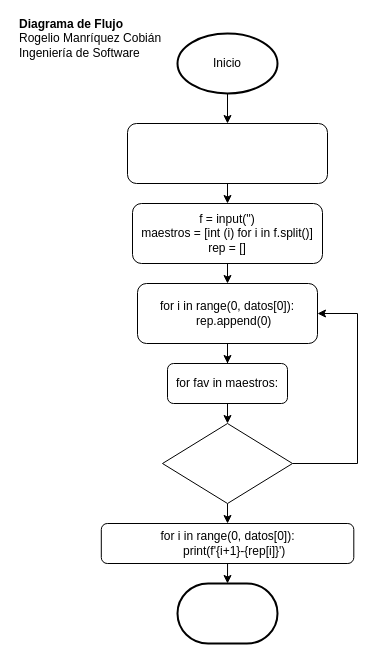
Image size: 383x662. Some labels were removed from this diagram. Here are the shapes that lost their labels. From the top down, the box of each, then its label:
(126, 122, 328, 184): n = input('') datos = [int (i) for i in n.split()]
(162, 422, 292, 504): if fav == (i+1): rep[i] += 1
(176, 582, 278, 644): Fin
